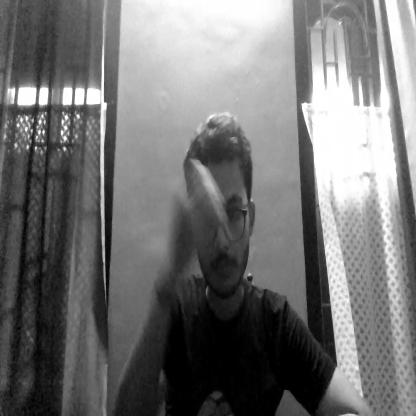Normal: (178, 118, 259, 314)
